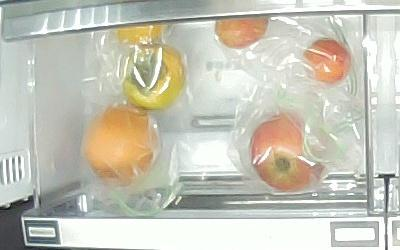apple_vinyl: (250, 113, 328, 190)
grapefruit_vinyl: (83, 104, 160, 185)
persimmon_vinyl: (122, 44, 186, 110), (116, 22, 171, 44)
prune_vinyl: (304, 38, 352, 86), (215, 17, 269, 48)
